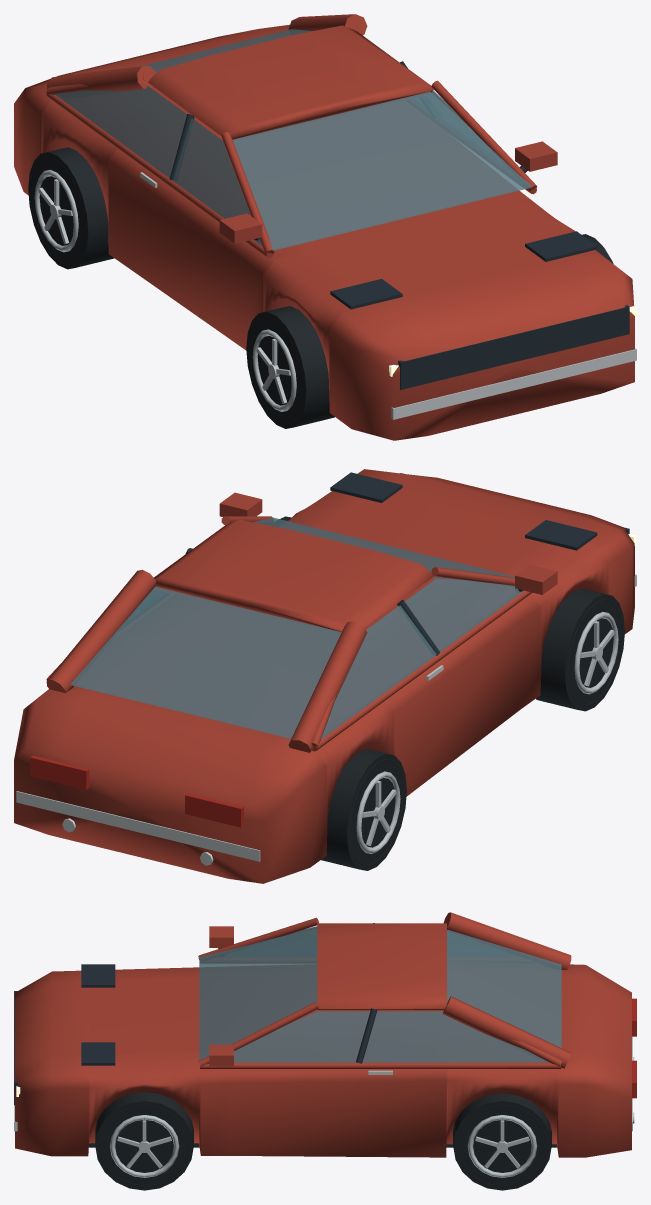
Rendered from charger.glb.
3 views of the same model, one above another, from view 1: azimuth 30°, elevation 25°; view 2: azimuth 150°, elevation 25°; view 3: azimuth 270°, elevation 25° (orthographic). The views are drawn at different scales.
Parts seen in each view (by area): view 1: exterior-paint, windows, black-trim, tire-front-left, tire-rear-left, chrome, rim-rear-left, rim-front-left; view 2: exterior-paint, windows, tire-front-left, tire-rear-left, chrome, black-trim, taillights, rim-rear-left, rim-front-left; view 3: exterior-paint, windows, tire-front-right, tire-rear-right, black-trim, rim-front-right, rim-rear-right.
Boxes of the visible parts, x1,y1,x2,y2 form: exterior-paint: [14, 14, 634, 440]; windows: [54, 29, 531, 250]; black-trim: [169, 61, 629, 389]; tire-front-left: [246, 306, 334, 428]; tire-rear-left: [28, 147, 114, 269]; chrome: [140, 172, 636, 419]; rim-rear-left: [34, 169, 78, 252]; rim-front-left: [252, 329, 296, 411]; exterior-paint: [14, 469, 634, 883]; windows: [71, 517, 523, 739]; tire-front-left: [536, 588, 624, 711]; tire-rear-left: [321, 749, 406, 870]; chrome: [16, 574, 636, 865]; black-trim: [185, 472, 629, 655]; taillights: [30, 755, 243, 827]; rim-rear-left: [356, 771, 400, 853]; rim-front-left: [574, 612, 618, 694]; exterior-paint: [15, 912, 631, 1157]; windows: [199, 926, 561, 1062]; tire-front-right: [95, 1092, 193, 1190]; tire-rear-right: [453, 1093, 551, 1190]; black-trim: [14, 923, 557, 1147]; rim-front-right: [109, 1115, 179, 1177]; rim-rear-right: [467, 1115, 537, 1177].
Size of the model in its own units: 2.01 by 1.23 by 4.04.
